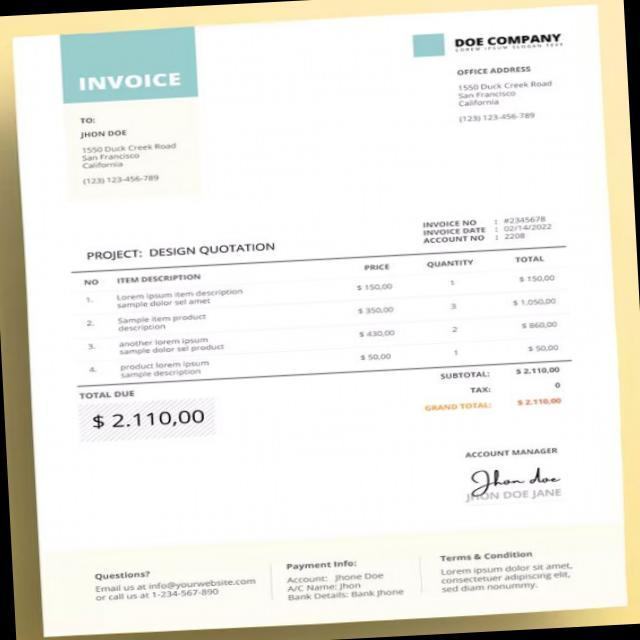customer_address: (76, 142, 182, 171)
customer_name: (77, 128, 132, 142)
invoice_date: (501, 224, 554, 232)
invoice_number: (502, 214, 549, 223)
invoice_subtotal: (510, 363, 563, 379)
invoice_total: (514, 394, 567, 410)
item_description: (110, 286, 252, 382)
item_quantity: (442, 272, 467, 360)
item_total_price: (505, 270, 563, 357)
item_unit_price: (339, 279, 404, 367)
supplier_address: (452, 78, 559, 108)
supplier_name: (451, 29, 566, 56)
tax_amount: (550, 380, 565, 392)
